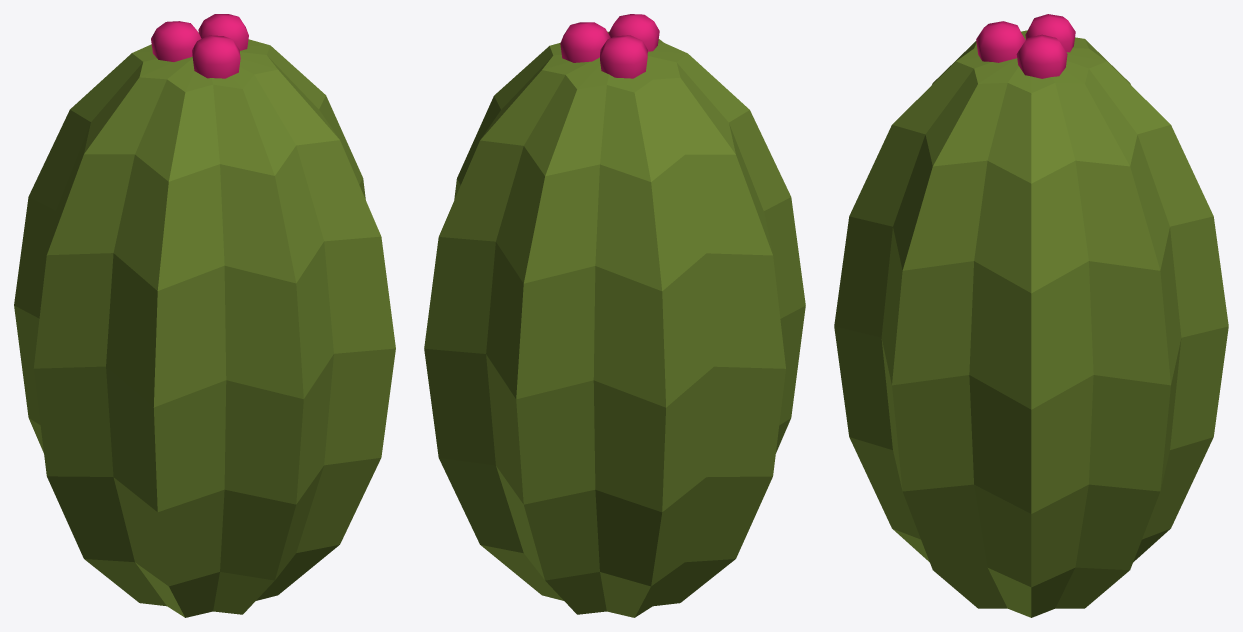
File: Cactus_13_A.fbx
The picture shows the model from 3 angles, left to right: view 1: azimuth 30°, elevation 25°; view 2: azimuth 150°, elevation 25°; view 3: azimuth 270°, elevation 25°; orthographic projection.
Parts seen in each view (by area): view 1: Cactus_13_A; view 2: Cactus_13_A; view 3: Cactus_13_A.
Part boxes in pixels (x1=…): Cactus_13_A: x1=14, y1=14, x2=395, y2=617; Cactus_13_A: x1=424, y1=14, x2=805, y2=617; Cactus_13_A: x1=834, y1=14, x2=1228, y2=617.
Bounding box in the file's own units: 95.52 × 155 × 95.52.
